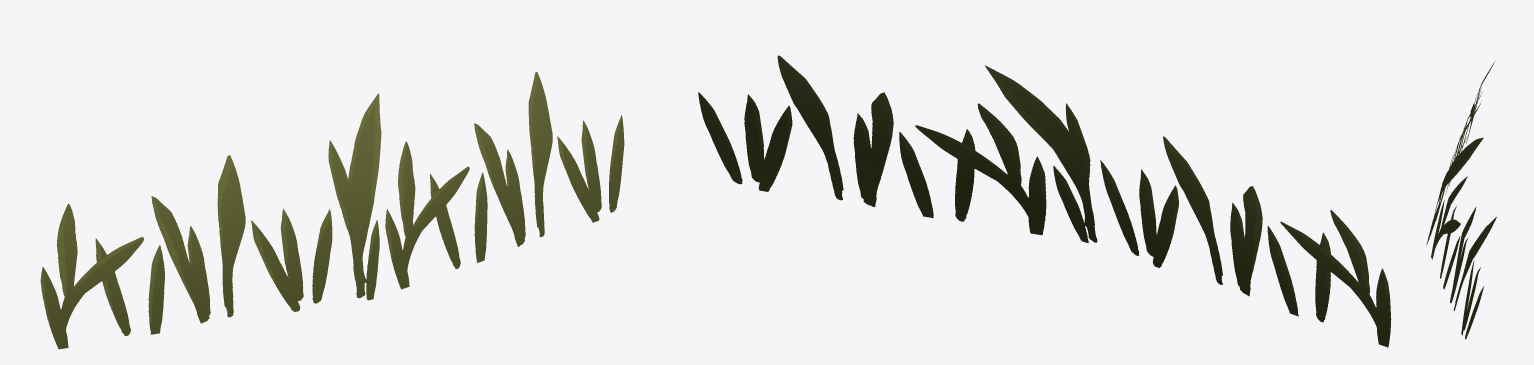
File: grass_2.fbx
3 renders of one model, left to right at view 1: azimuth 30°, elevation 25°; view 2: azimuth 150°, elevation 25°; view 3: azimuth 270°, elevation 25°, orthographic. The views are drawn at different scales.
Visible parts, largest first — view 1: Grass-2; view 2: Grass-2; view 3: Grass-2.
Boxes of the visible parts, x1,y1,x2,y2 form: Grass-2: (40, 72, 624, 349); Grass-2: (698, 55, 1391, 347); Grass-2: (1426, 62, 1496, 339).
Bounding box in the file's own units: 107 × 29.26 × 19.83.
Materials: 1 (1 with a texture image).
